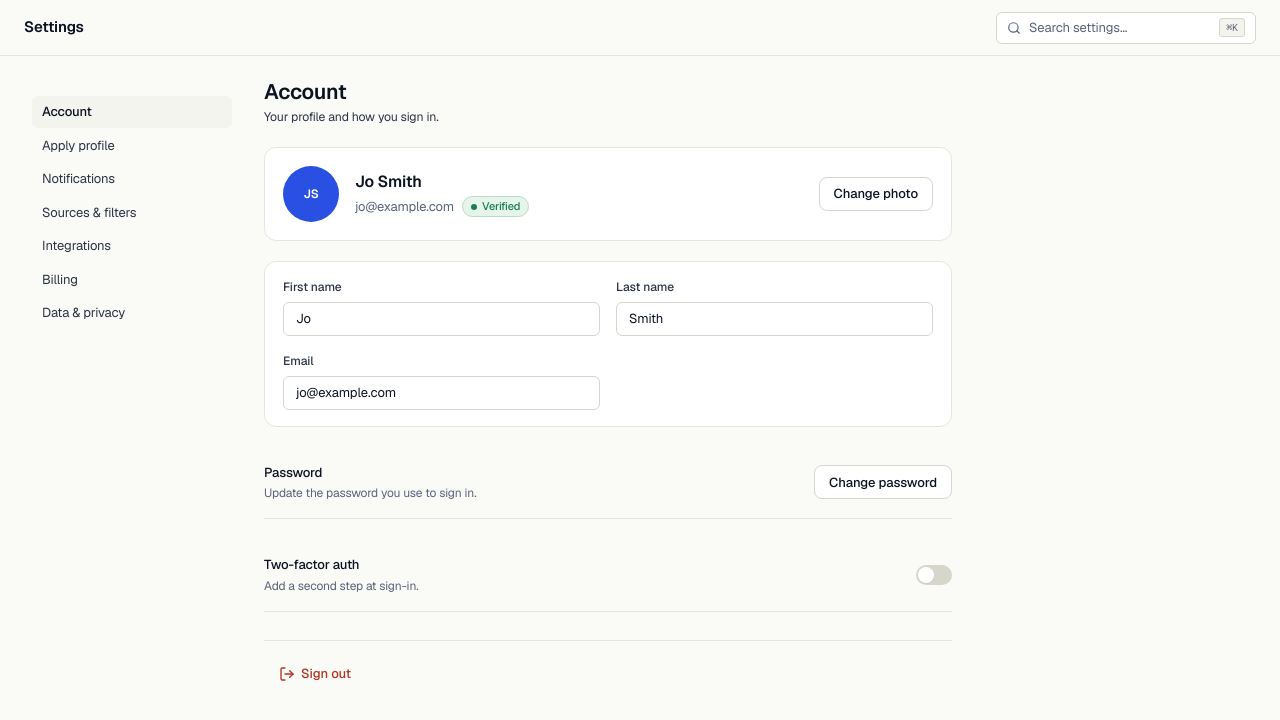
Test: TC-FE-PWD-03: API 401 (wrong current password) shows an error › shows an error message and does not show the success state
This screenshot has width=1280, height=720.
Click the button "Change password" at (883, 482), box [814,465,952,499]
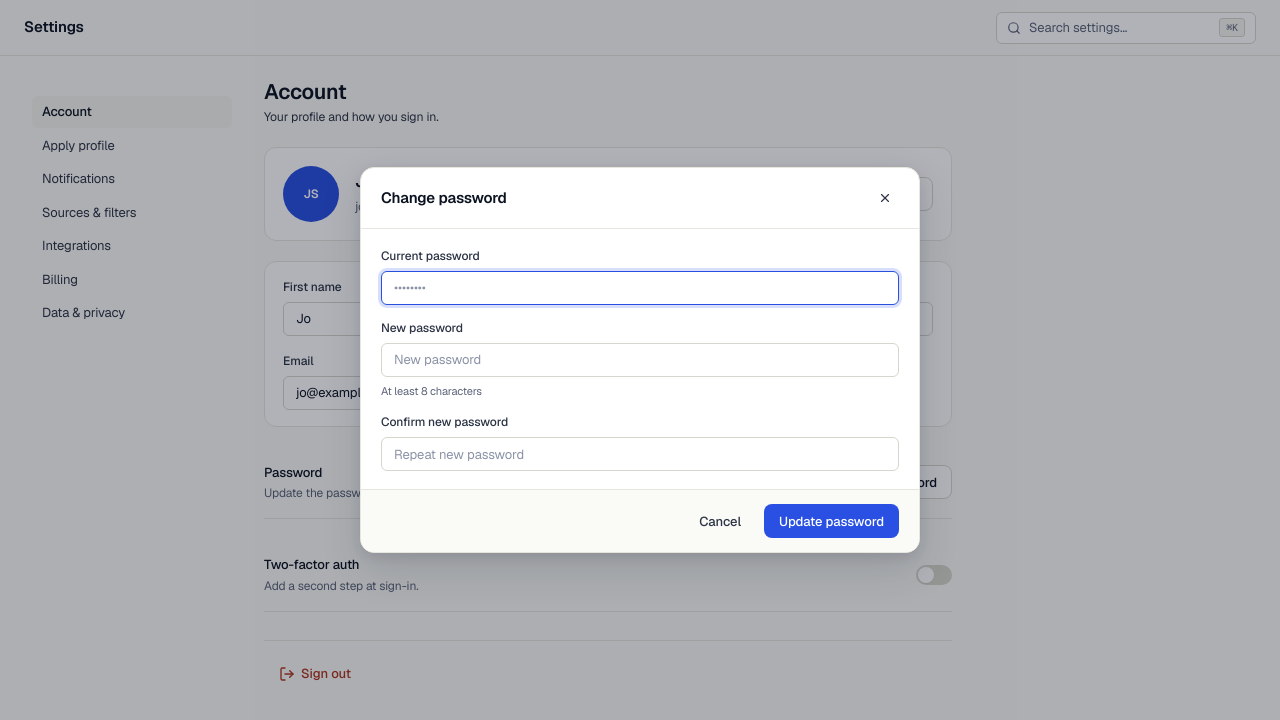
Type "wrongpassword" into the password field with placeholder "••••••••" at (640, 288), box [381,271,899,305]
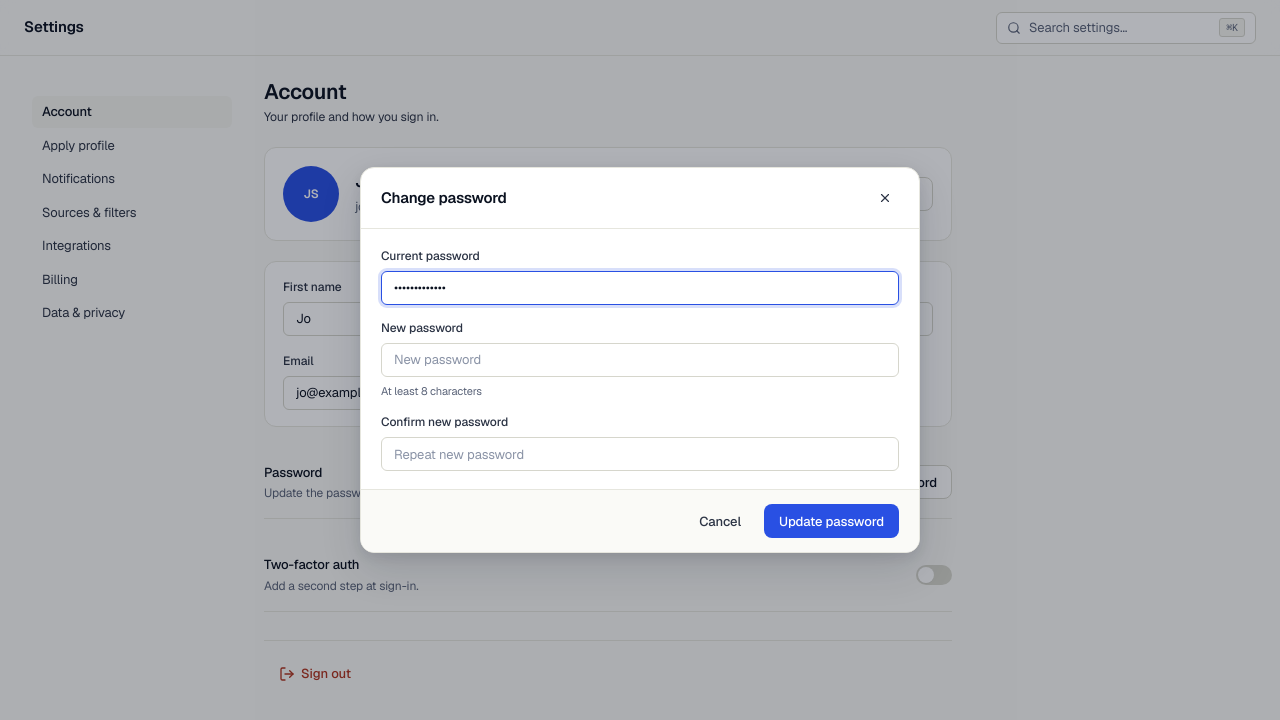
Type "newpassword1" into the password field with placeholder "New password" at (640, 360), box [381,343,899,377]
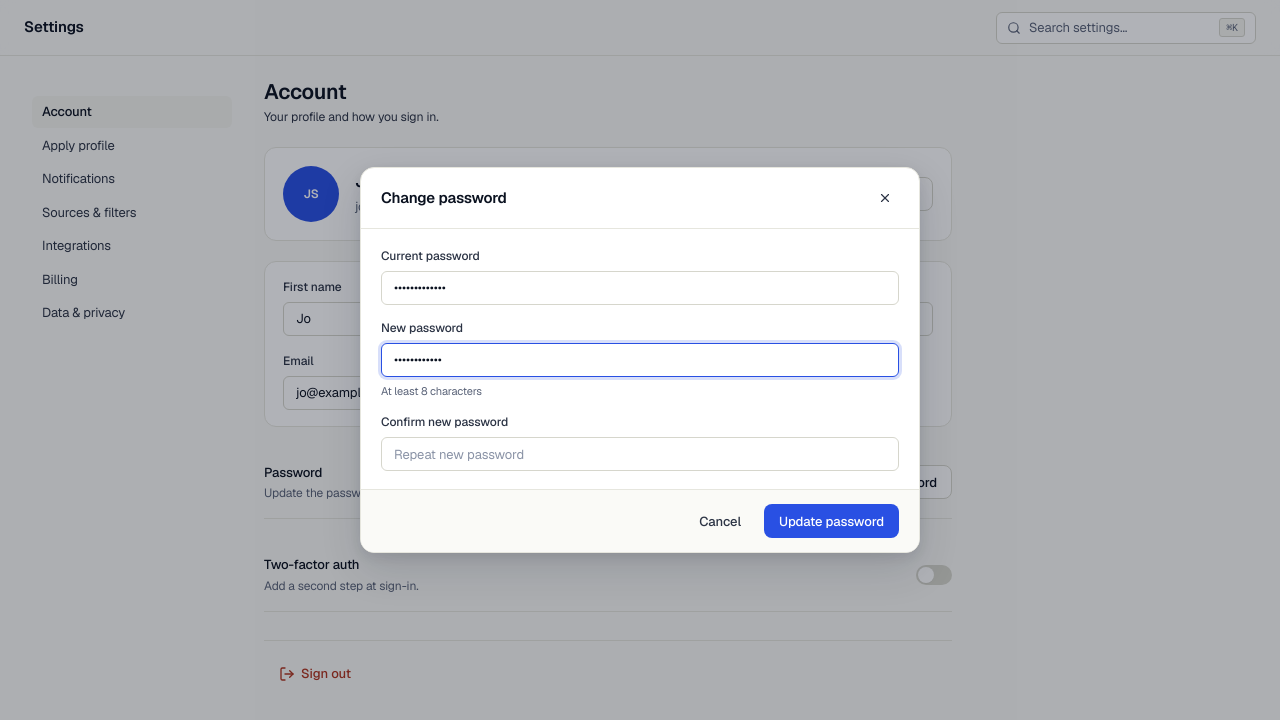
Type "newpassword1" into the password field with placeholder "Repeat new password" at (640, 454), box [381,437,899,471]
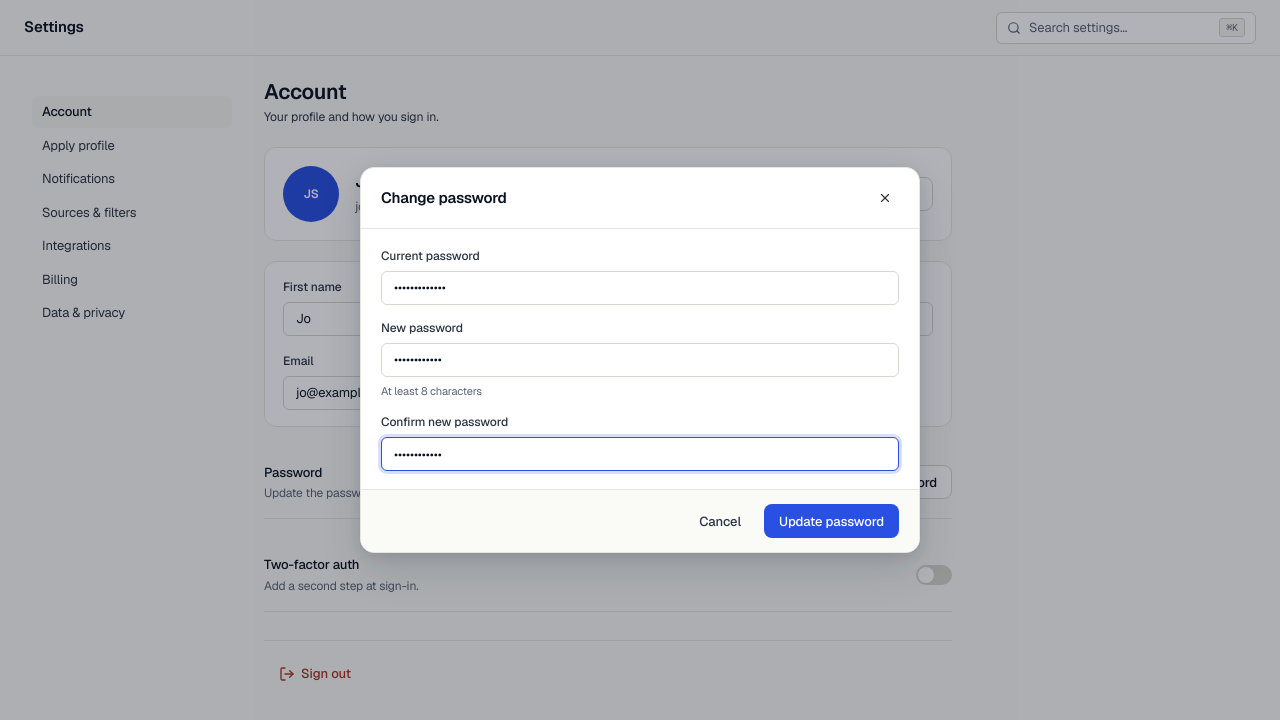
Click the button "Update password" at (832, 521), box [764,504,899,538]
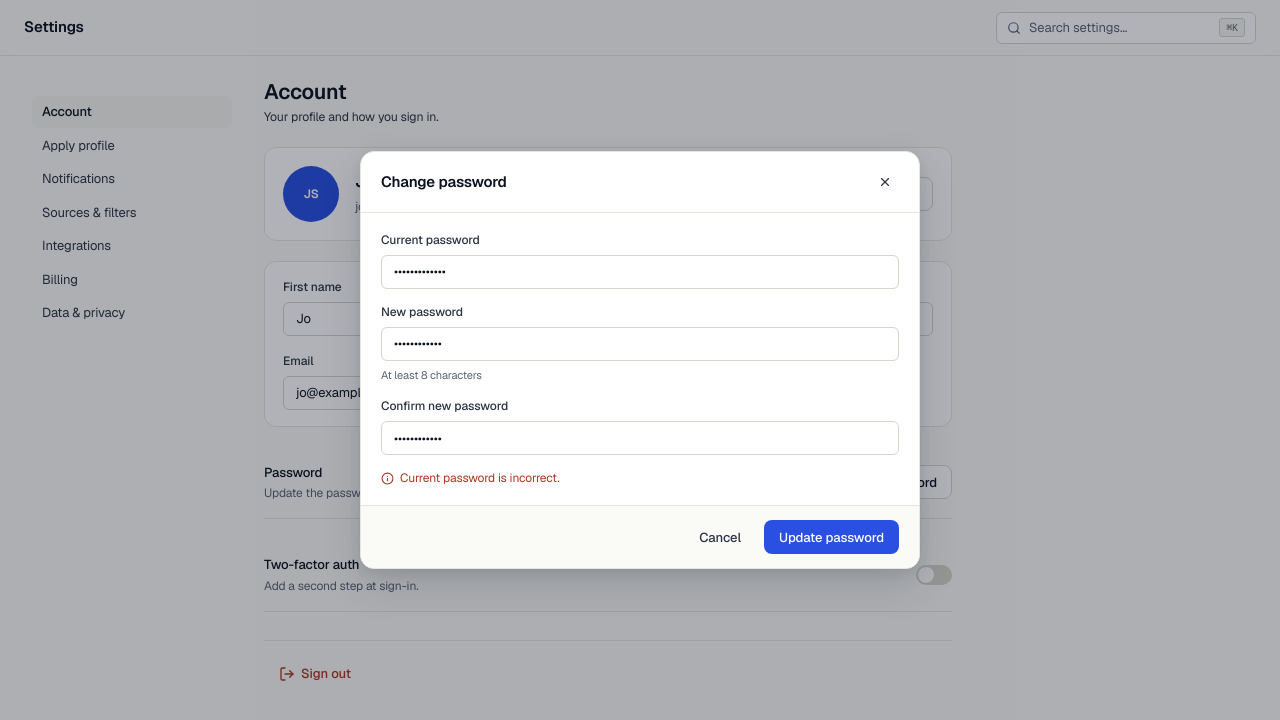
Expected: the text "Current password is incorrect." is shown, [381,470,560,486]
